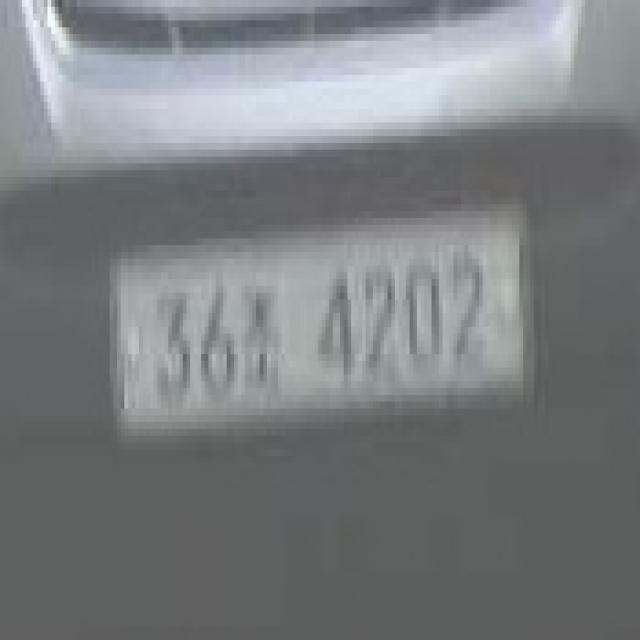0: (406, 259, 442, 374)
2: (446, 245, 486, 368), (358, 266, 398, 374)
3: (150, 293, 194, 408)
4: (314, 266, 354, 374)
6: (194, 279, 234, 402)
jo: (242, 279, 282, 395)
license_plate: (106, 204, 538, 456)
